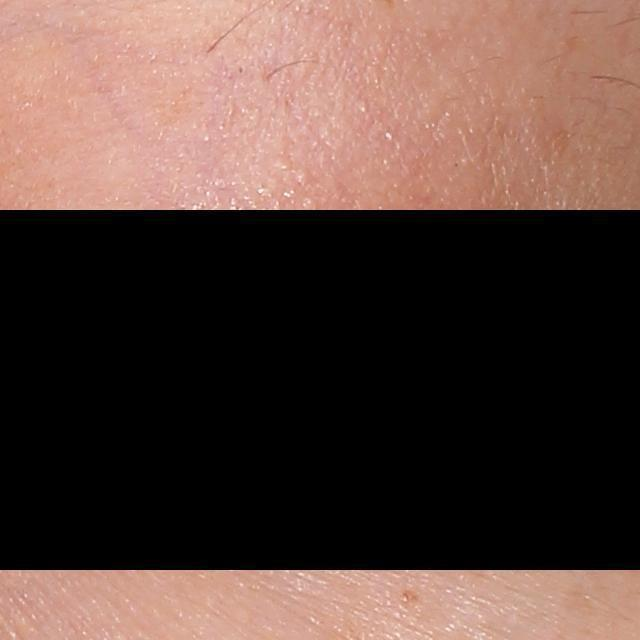melasma: (396, 587, 419, 604)
